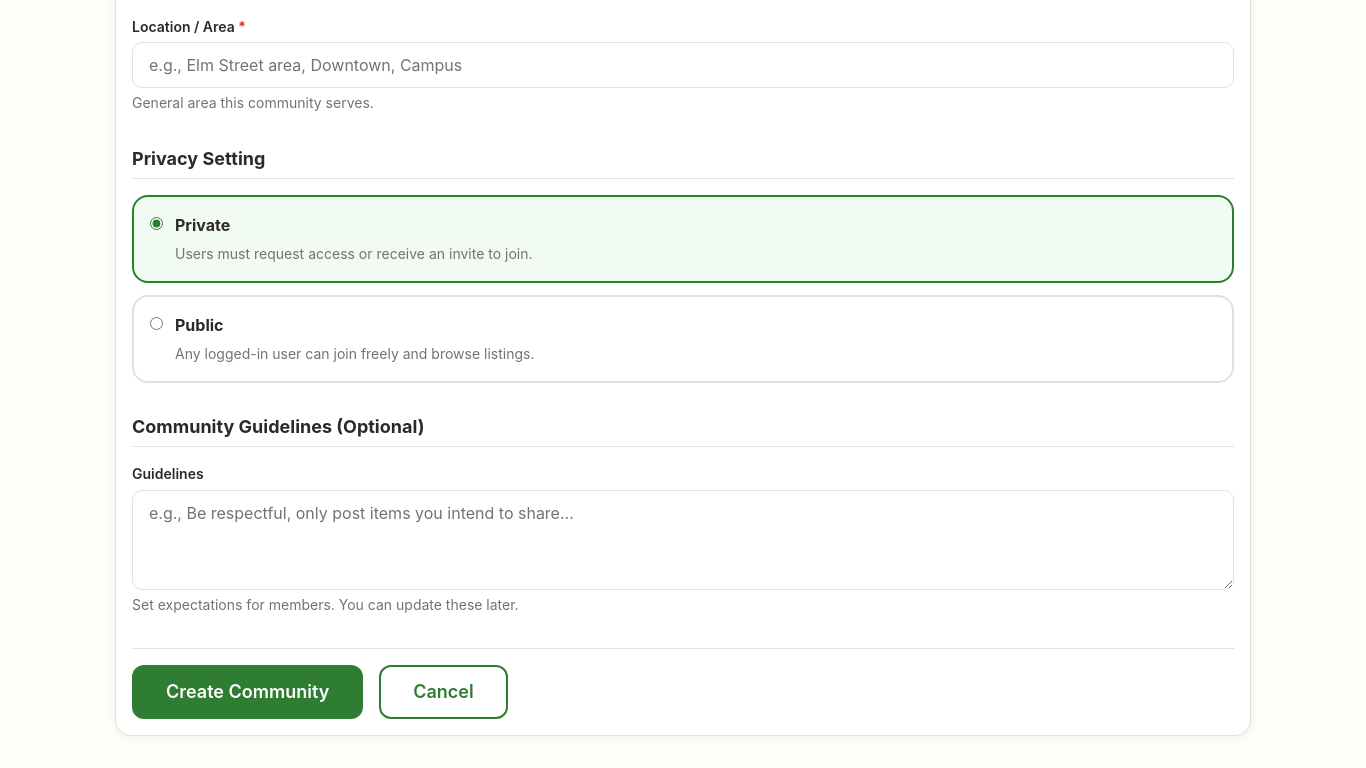
Test: CreateCommunity › must clear error when field is edited
(page scrolled)
Click the button "Create Community" at (248,692), box 132,665 -> 363,719
(page scrolled)
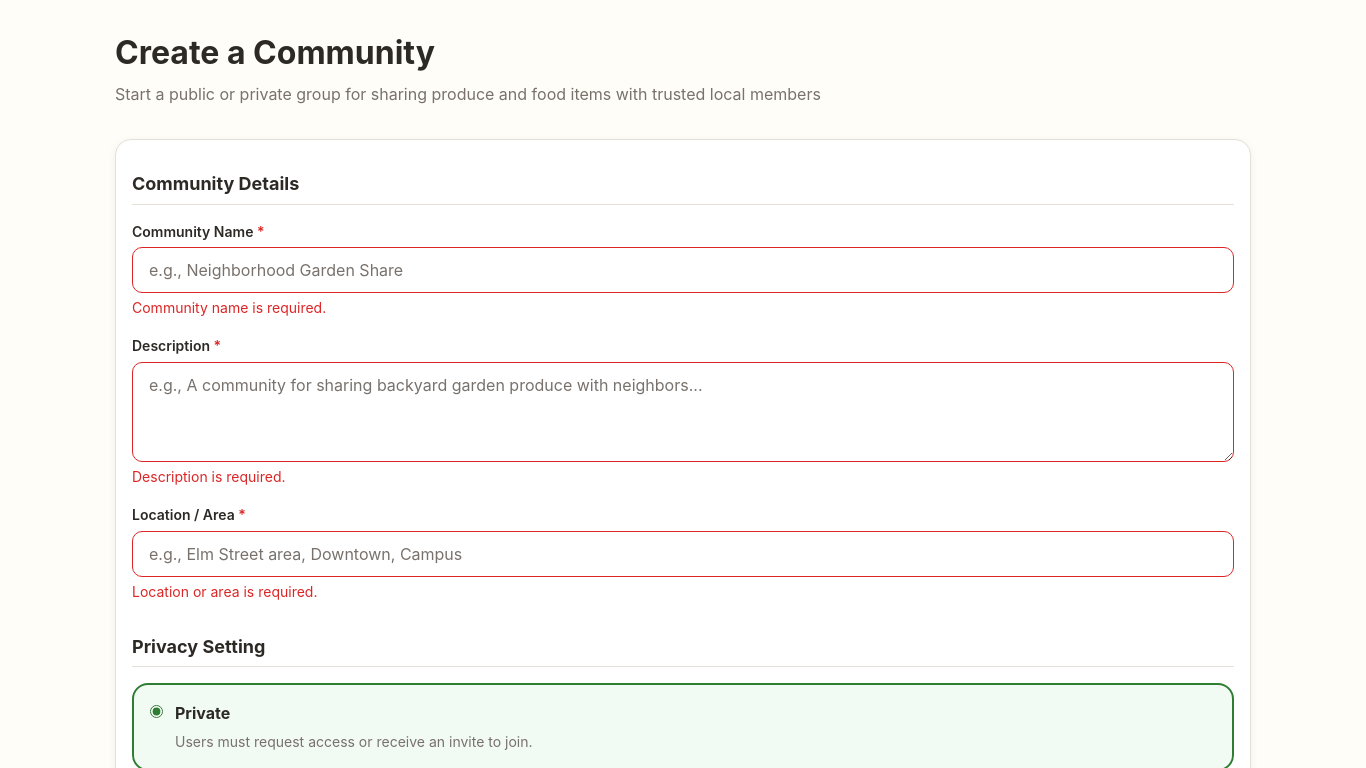
Now the text "Community name is required." is shown, box 132,299 -> 326,316
Type "Test Community" into the field labelled "Community Name *" at (683,270), box 132,247 -> 1234,293
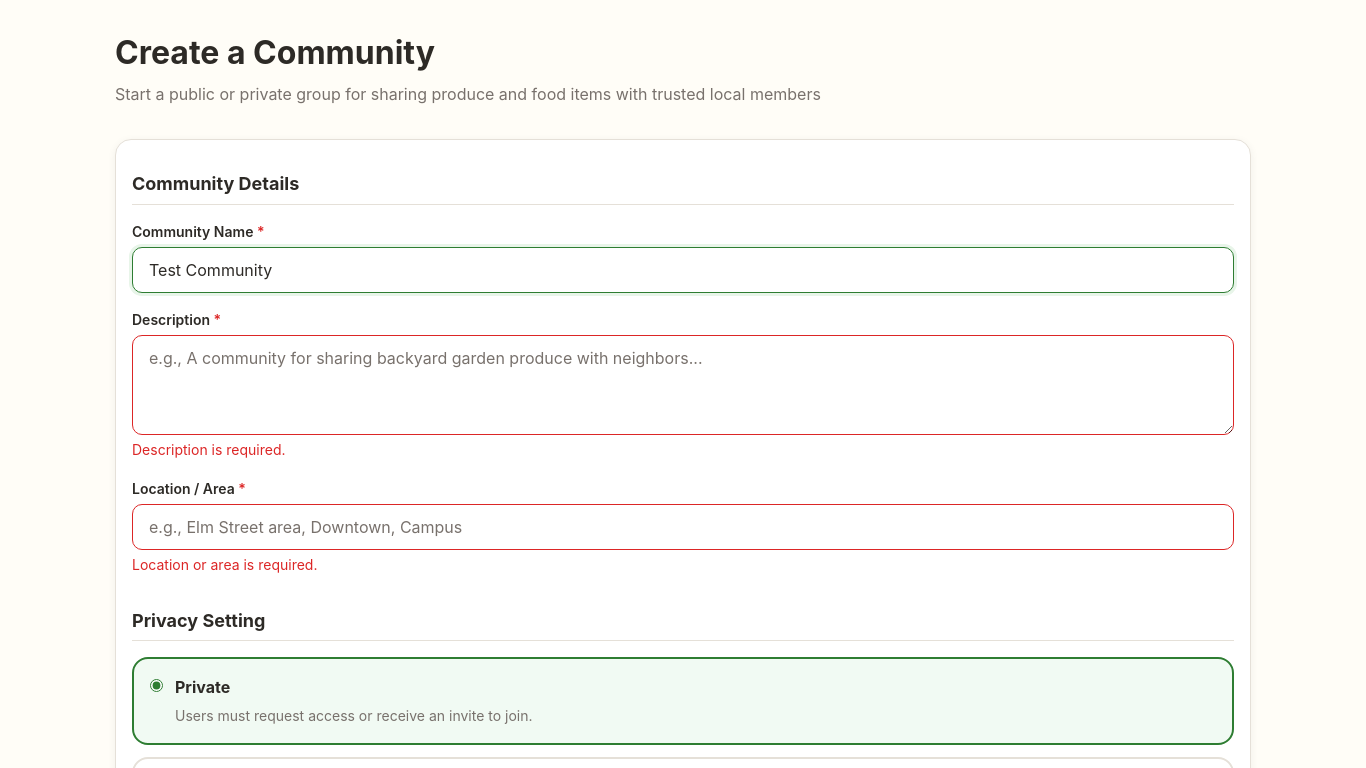
Now the text "Community name is required." is gone
